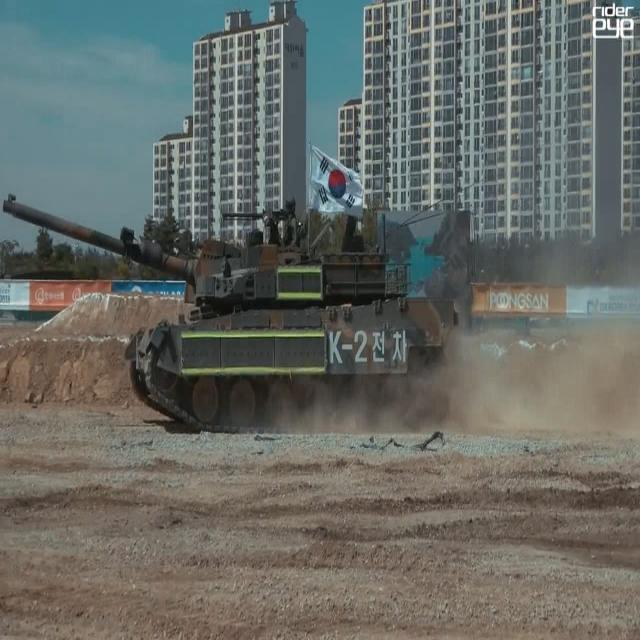korea tank: (2, 192, 460, 436)
